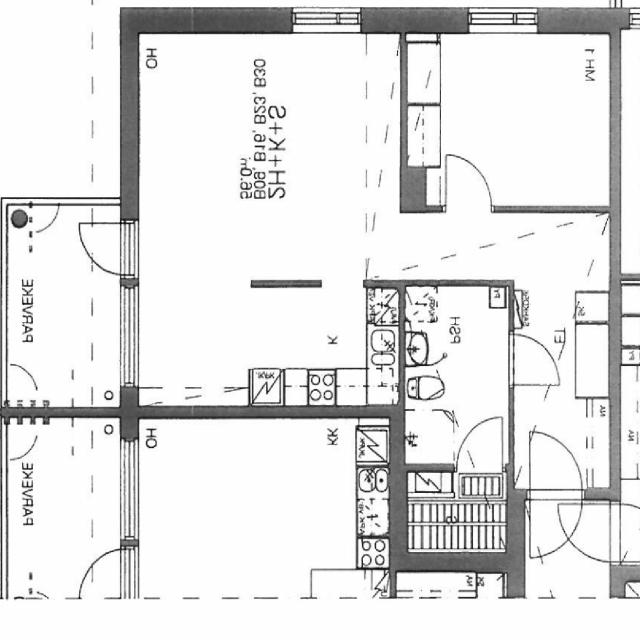door: (530, 429, 582, 500), (530, 487, 582, 558), (76, 223, 139, 274), (458, 413, 502, 472), (447, 155, 491, 213), (509, 334, 559, 384)
